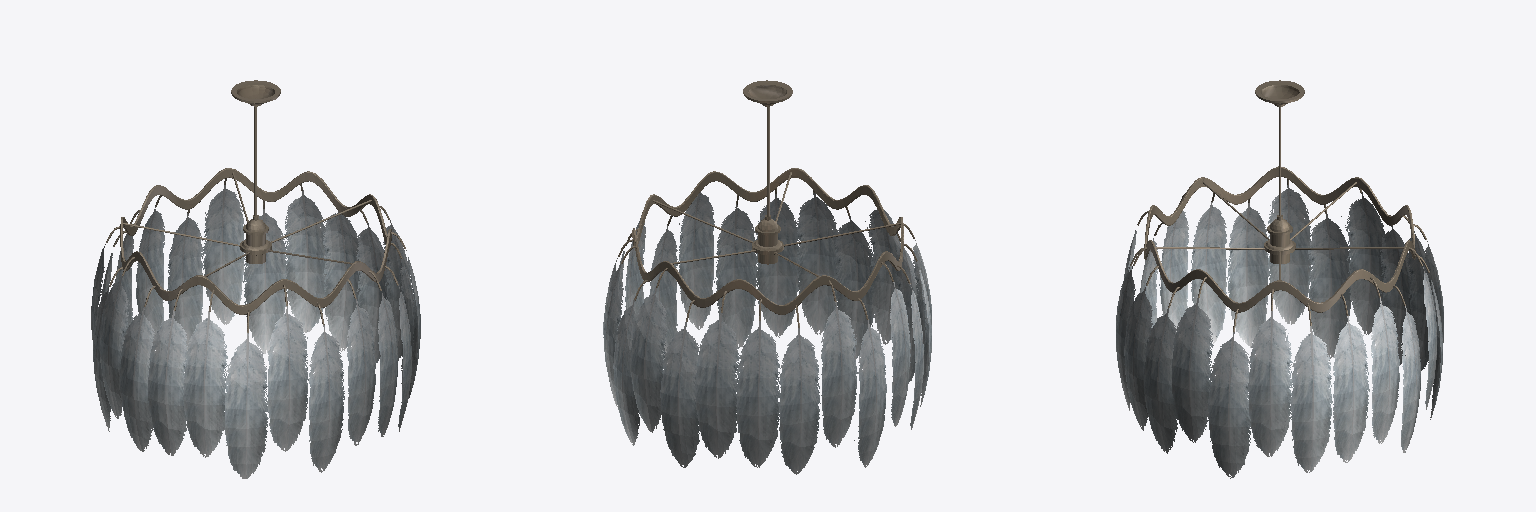
The picture shows the model from 3 angles: view 1: azimuth 30°, elevation 25°; view 2: azimuth 150°, elevation 25°; view 3: azimuth 270°, elevation 25°; orthographic projection.
Visible parts, largest first — view 1: glass_003, solid_002; view 2: glass_003, solid_002; view 3: glass_003, solid_002.
Part boxes in pixels (bbox=[...]): glass_003: bbox=[91, 185, 420, 478]; solid_002: bbox=[106, 80, 405, 332]; glass_003: bbox=[603, 192, 931, 474]; solid_002: bbox=[618, 80, 917, 327]; glass_003: bbox=[1116, 185, 1443, 478]; solid_002: bbox=[1130, 80, 1429, 331].
Bounding box in the file's own units: 1.24 × 1.38 × 1.25.
Materials: 1 (1 with a texture image).